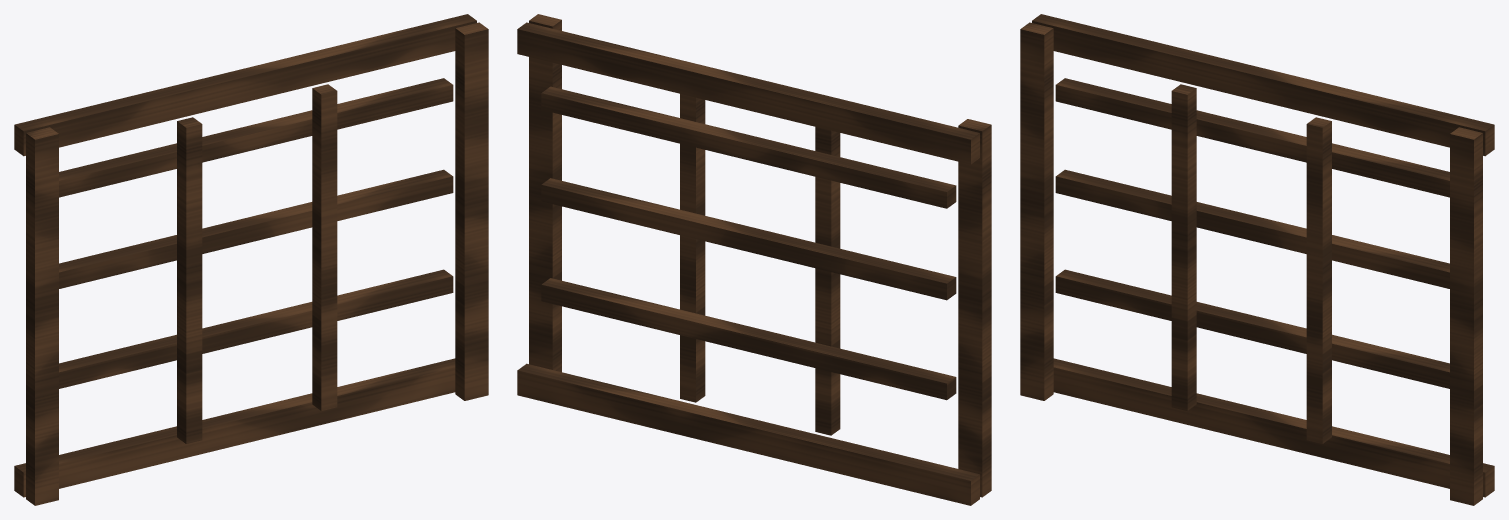
File: window_screen.fbx
3 views of the same model, side by side, from view 1: azimuth 30°, elevation 25°; view 2: azimuth 150°, elevation 25°; view 3: azimuth 330°, elevation 25° (orthographic).
Visible parts, largest first — view 1: window_screen; view 2: window_screen; view 3: window_screen.
Boxes of the visible parts, x1,y1,x2,y2 form: window_screen: (14,14,488,505); window_screen: (517,14,991,505); window_screen: (1020,14,1494,505).
Bounding box in the file's own units: 114 × 88 × 9.
